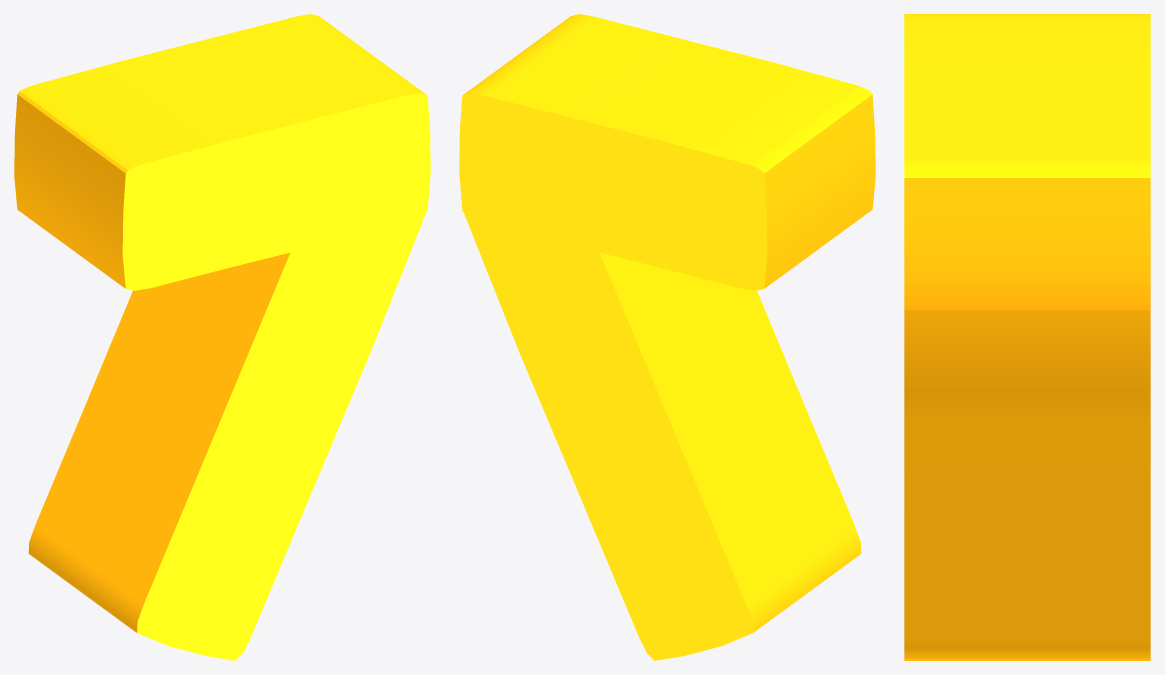
Rendered from 9787603f-2685-4543-b2bb-59c79fdbb834.glb.
3 views of the same model, side by side, from view 1: azimuth 30°, elevation 25°; view 2: azimuth 150°, elevation 25°; view 3: azimuth 270°, elevation 25° (orthographic). The views are drawn at different scales.
Visible parts, largest first — view 1: 7_Zyzol_Yellow; view 2: 7_Zyzol_Yellow; view 3: 7_Zyzol_Yellow.
Part boxes in pixels (bbox=[...]): 7_Zyzol_Yellow: bbox=[14, 14, 430, 660]; 7_Zyzol_Yellow: bbox=[459, 14, 875, 660]; 7_Zyzol_Yellow: bbox=[904, 14, 1150, 660].
Size of what is drawn, in the model's own units: 0.0738 by 0.12 by 0.045.
Materials: 2 (2 with a texture image).
